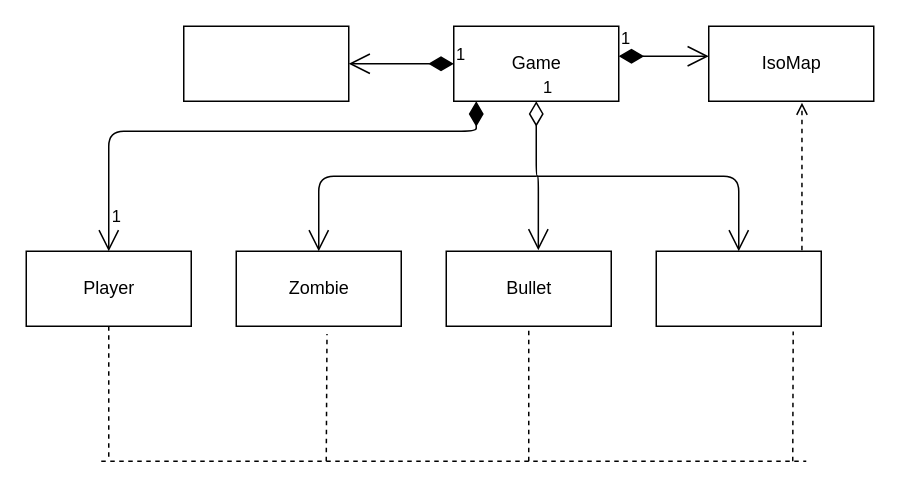
Image size: 900x489. Some labels were removed from this diagram. The centre of each missing label's shape, as x and y in pixels:
"Menu" belongs at (265,63).
"PowerUp" belongs at (738,288).
